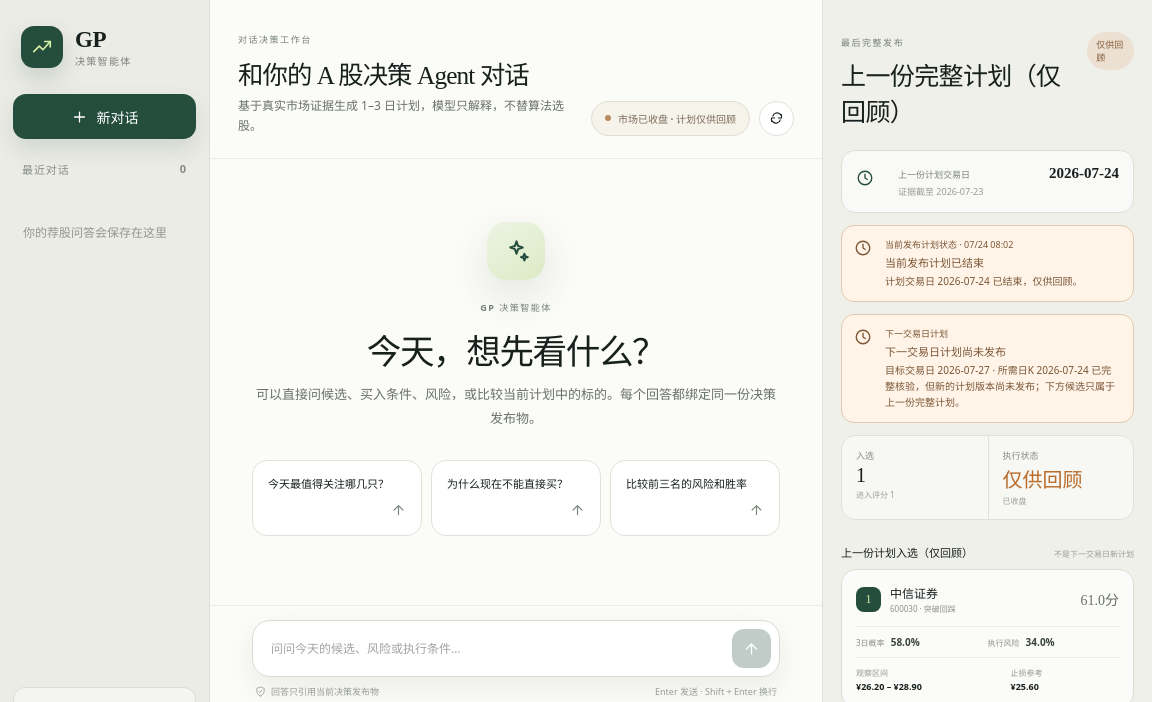
Test case: GP chat workspace › sends a new chat and replaces the optimistic turn with canonical turns
Type "今天推荐什么？" into the text box named "聊天输入" at (496, 649), box [271,630,722,668]
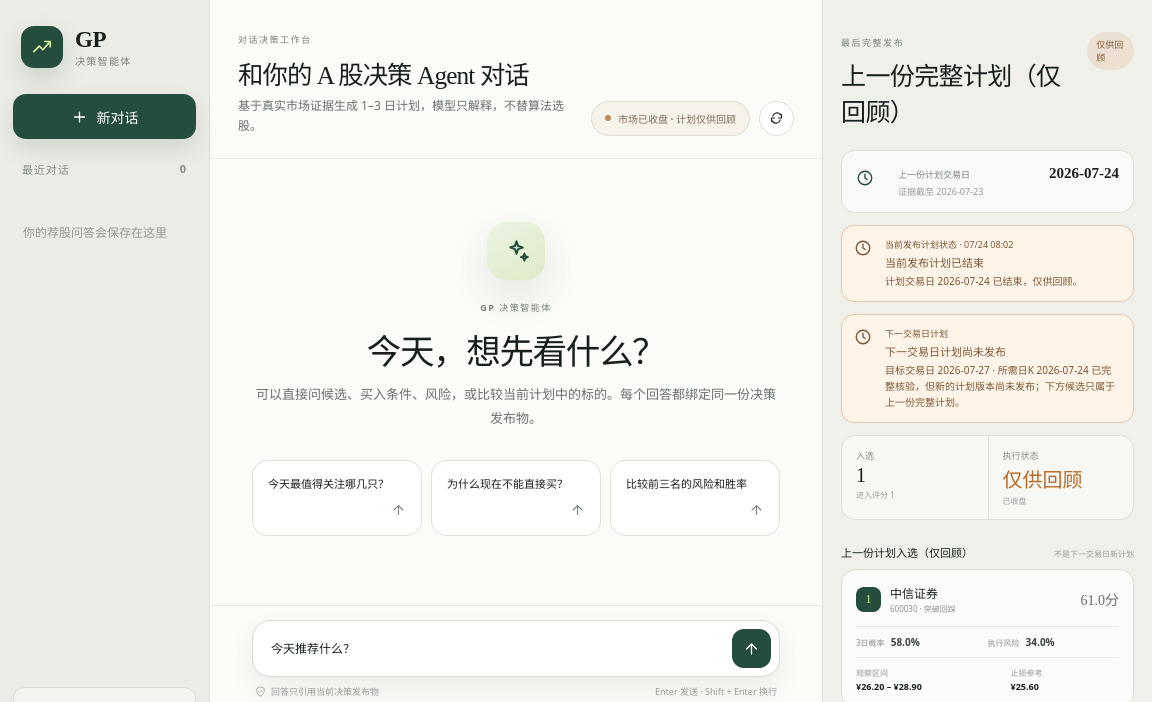
Click the button named "发送消息" at (752, 648), box [732,629,771,668]
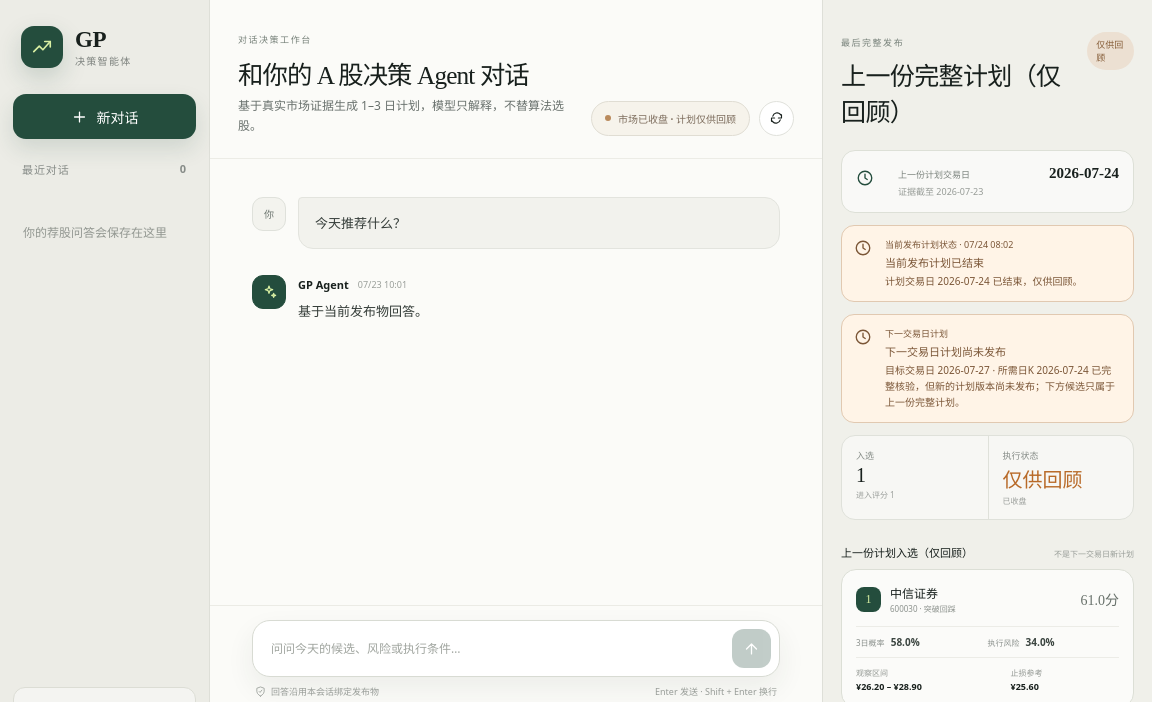
expect the text "基于当前发布物回答。" is shown: met, box [298,302,428,320]
expect the text "今天推荐什么？" is shown: met, box [315,214,406,232]
